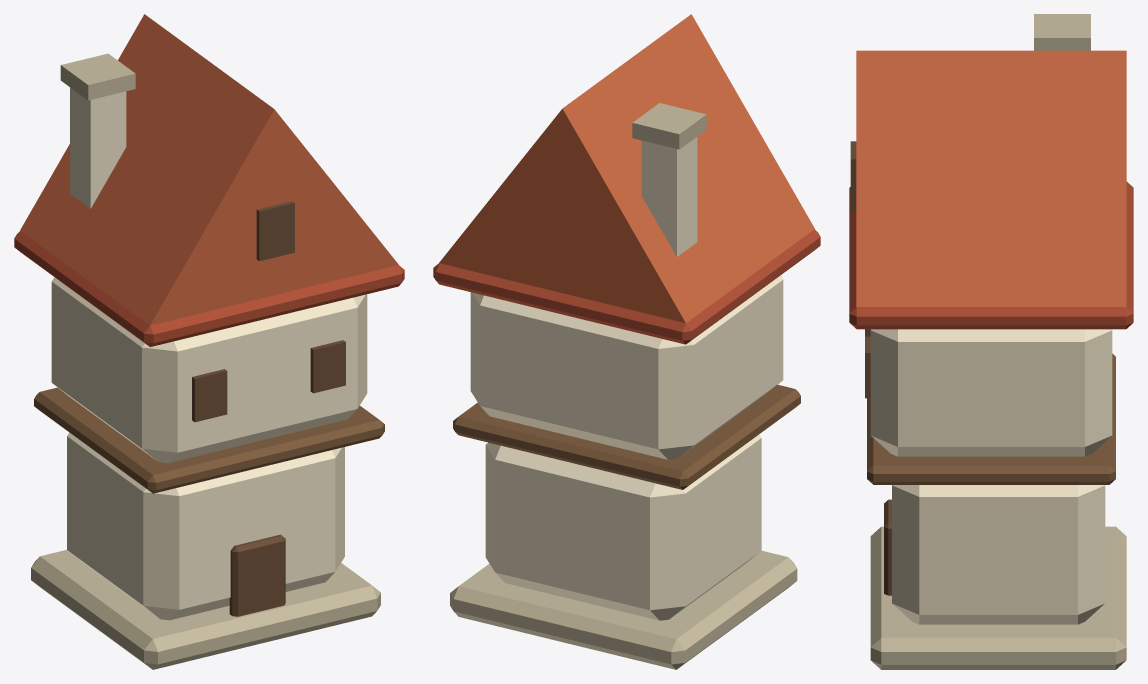
The model's file is ns-house-3d.glb.
The picture shows the model from 3 angles, left to right: view 1: azimuth 30°, elevation 25°; view 2: azimuth 150°, elevation 25°; view 3: azimuth 270°, elevation 25°; orthographic projection. The views are drawn at different scales.
Visible parts, largest first — view 1: Cube; view 2: Cube; view 3: Cube.
Part boxes in pixels (left/top/right/bottom): Cube: left=14, top=14, right=404, bottom=669; Cube: left=433, top=14, right=820, bottom=669; Cube: left=849, top=14, right=1133, bottom=669.
Bounding box in the file's own units: 0.44 × 0.875 × 0.4.
